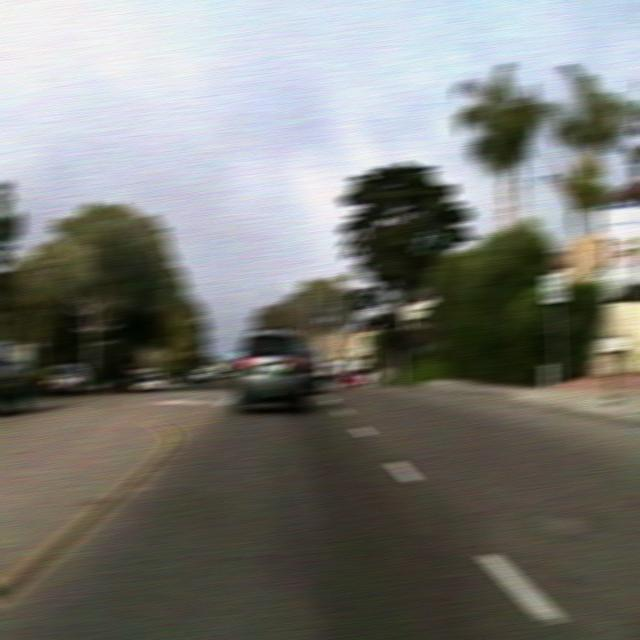speedLimit40: (542, 270, 566, 302)
